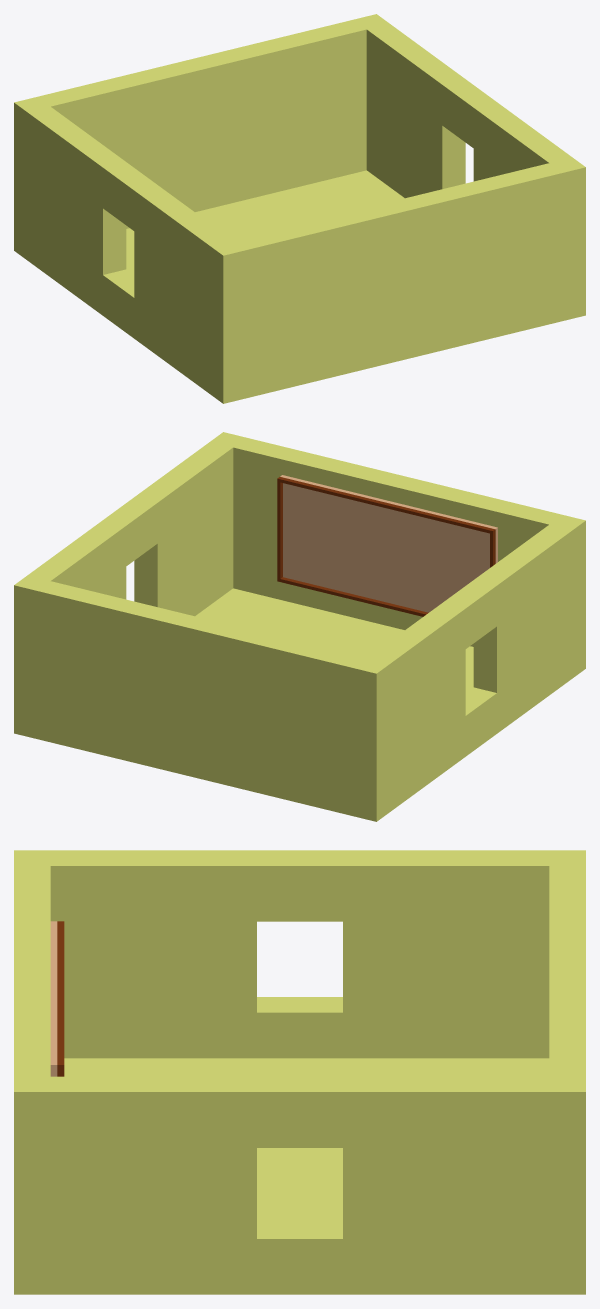
File: Room.glb
3 views of the same model, one above another, from view 1: azimuth 30°, elevation 25°; view 2: azimuth 150°, elevation 25°; view 3: azimuth 270°, elevation 25° (orthographic). The views are drawn at different scales.
Parts seen in each view (by area): view 1: Room; view 2: Room, bbBack, bbFrame; view 3: Room, bbBack, bbFrame.
Boxes of the visible parts, <box> form: Room: <box>14,14,585,403</box>; Room: <box>14,432,585,821</box>; bbBack: <box>280,475,497,612</box>; bbFrame: <box>277,477,495,616</box>; Room: <box>14,850,585,1294</box>; bbBack: <box>50,921,57,1076</box>; bbFrame: <box>57,921,64,1076</box>.
Bounding box in the file's own units: 9.41 × 3.68 × 9.41.
